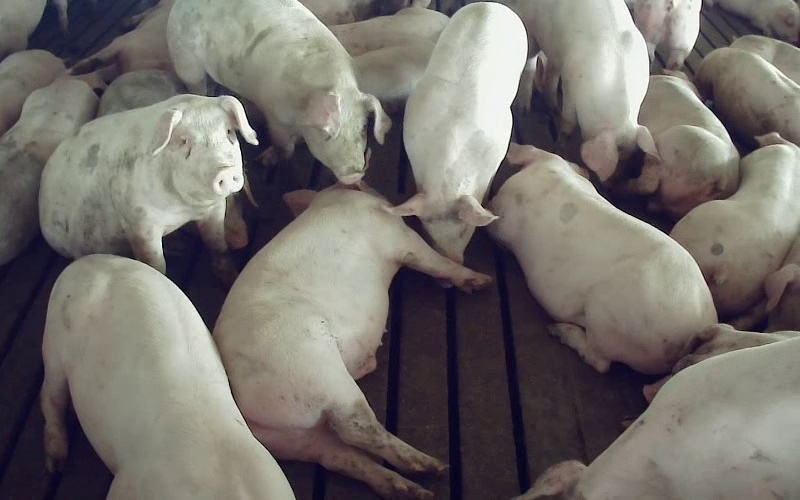pig: (214, 185, 490, 496), (41, 254, 293, 499), (488, 144, 716, 373), (517, 337, 799, 499), (168, 0, 390, 183), (39, 94, 257, 280), (394, 3, 526, 261), (508, 0, 655, 180), (671, 132, 799, 319), (0, 77, 97, 265), (633, 70, 739, 218), (695, 47, 799, 145)
